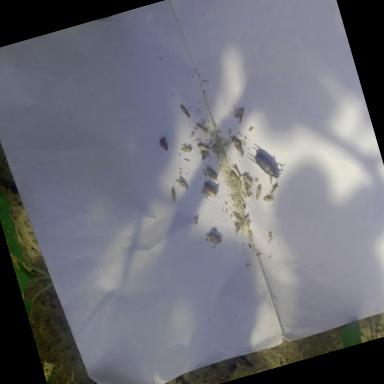pbw: (228, 102, 248, 126), (203, 230, 223, 250), (204, 160, 220, 181), (178, 101, 192, 124), (176, 176, 190, 196), (237, 216, 252, 233), (252, 186, 266, 200), (229, 134, 243, 148), (268, 182, 282, 195), (242, 173, 254, 188), (243, 220, 254, 236), (196, 122, 207, 136), (234, 143, 244, 158), (232, 164, 241, 180), (169, 186, 178, 202), (230, 170, 240, 184), (180, 143, 192, 154), (197, 142, 208, 154), (263, 194, 275, 204), (232, 225, 242, 236), (208, 172, 218, 182), (243, 182, 250, 196)
